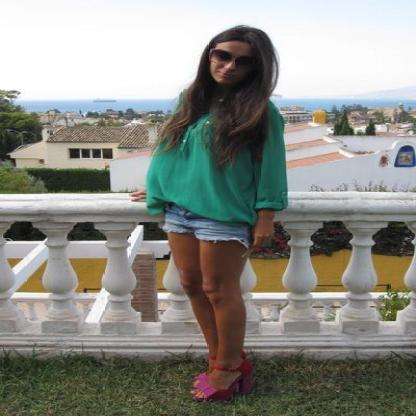shirt: (145, 110, 287, 235)
shoe: (190, 356, 261, 406)
shorts: (146, 197, 247, 247)
sunglass: (202, 38, 261, 68)
